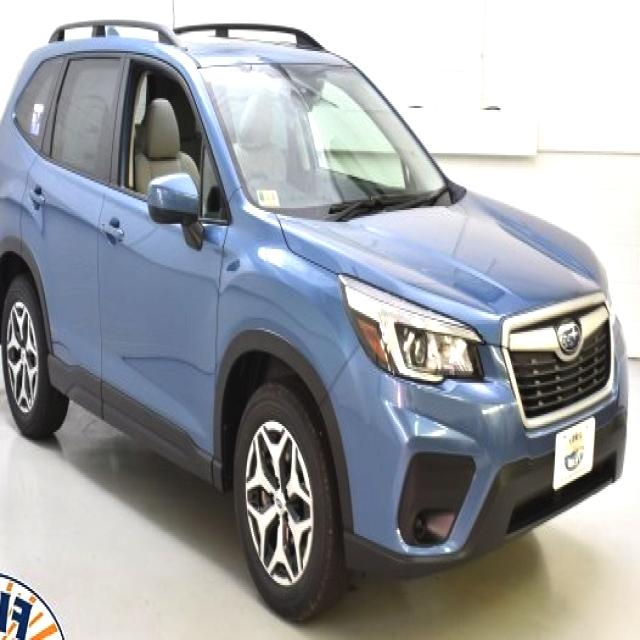blue: (0, 0, 619, 584)
